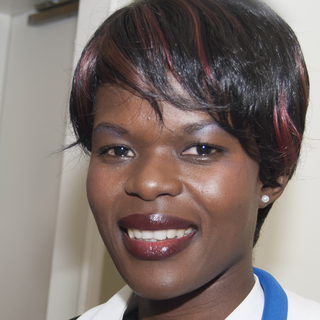eye: (178, 139, 227, 164), (95, 139, 140, 164)
